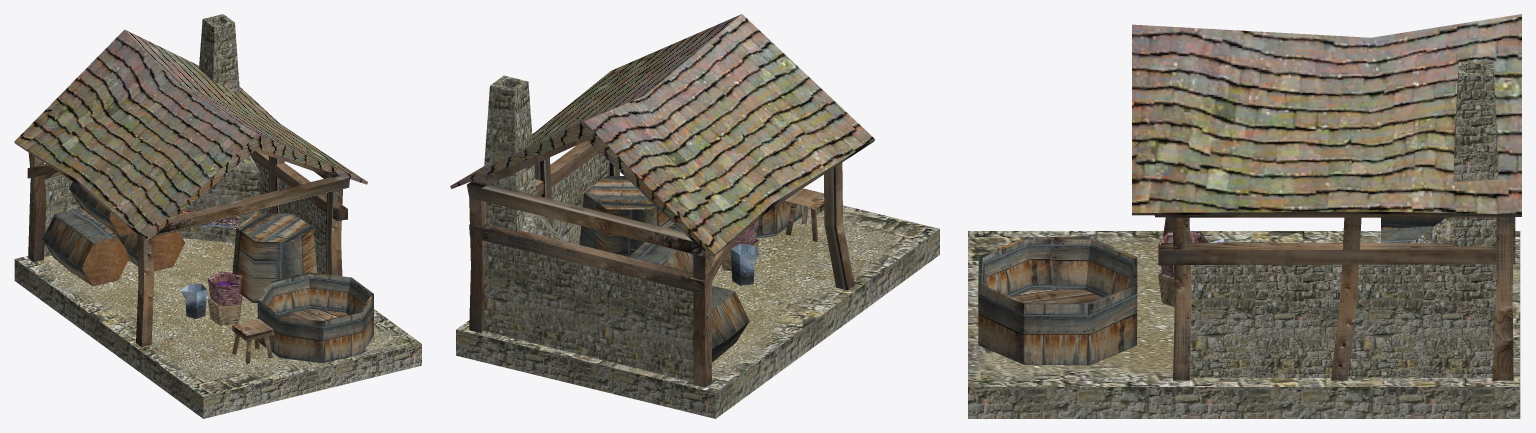
3 renders of one model, left to right at view 1: azimuth 30°, elevation 25°; view 2: azimuth 150°, elevation 25°; view 3: azimuth 270°, elevation 25°, orthographic. The views are drawn at different scales.
Parts seen in each view (by area): view 1: vintners_workshop.001; view 2: vintners_workshop.001; view 3: vintners_workshop.001.
Part boxes in pixels (bbox=[...]): vintners_workshop.001: bbox=[14, 14, 421, 418]; vintners_workshop.001: bbox=[450, 14, 939, 418]; vintners_workshop.001: bbox=[968, 14, 1521, 418].
Bounding box in the file's own units: 436 × 417 × 635.
11 materials, 11 textured.
